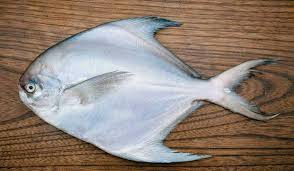Ikan Bawal: (13, 15, 281, 165)
